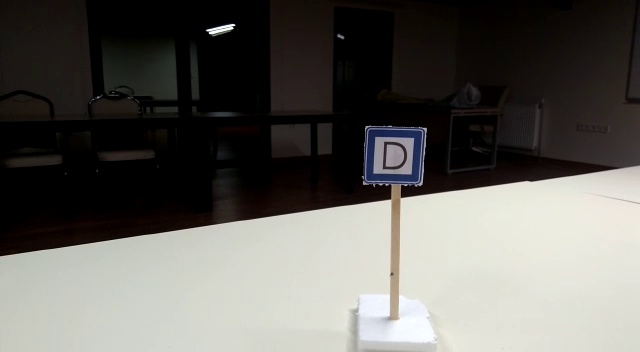durak: (363, 127, 426, 184)
